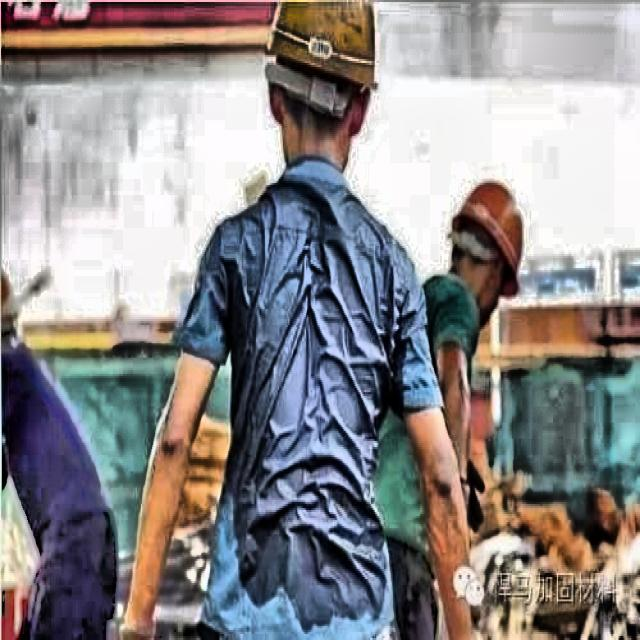helmet: (260, 0, 378, 183), (428, 175, 535, 315)
